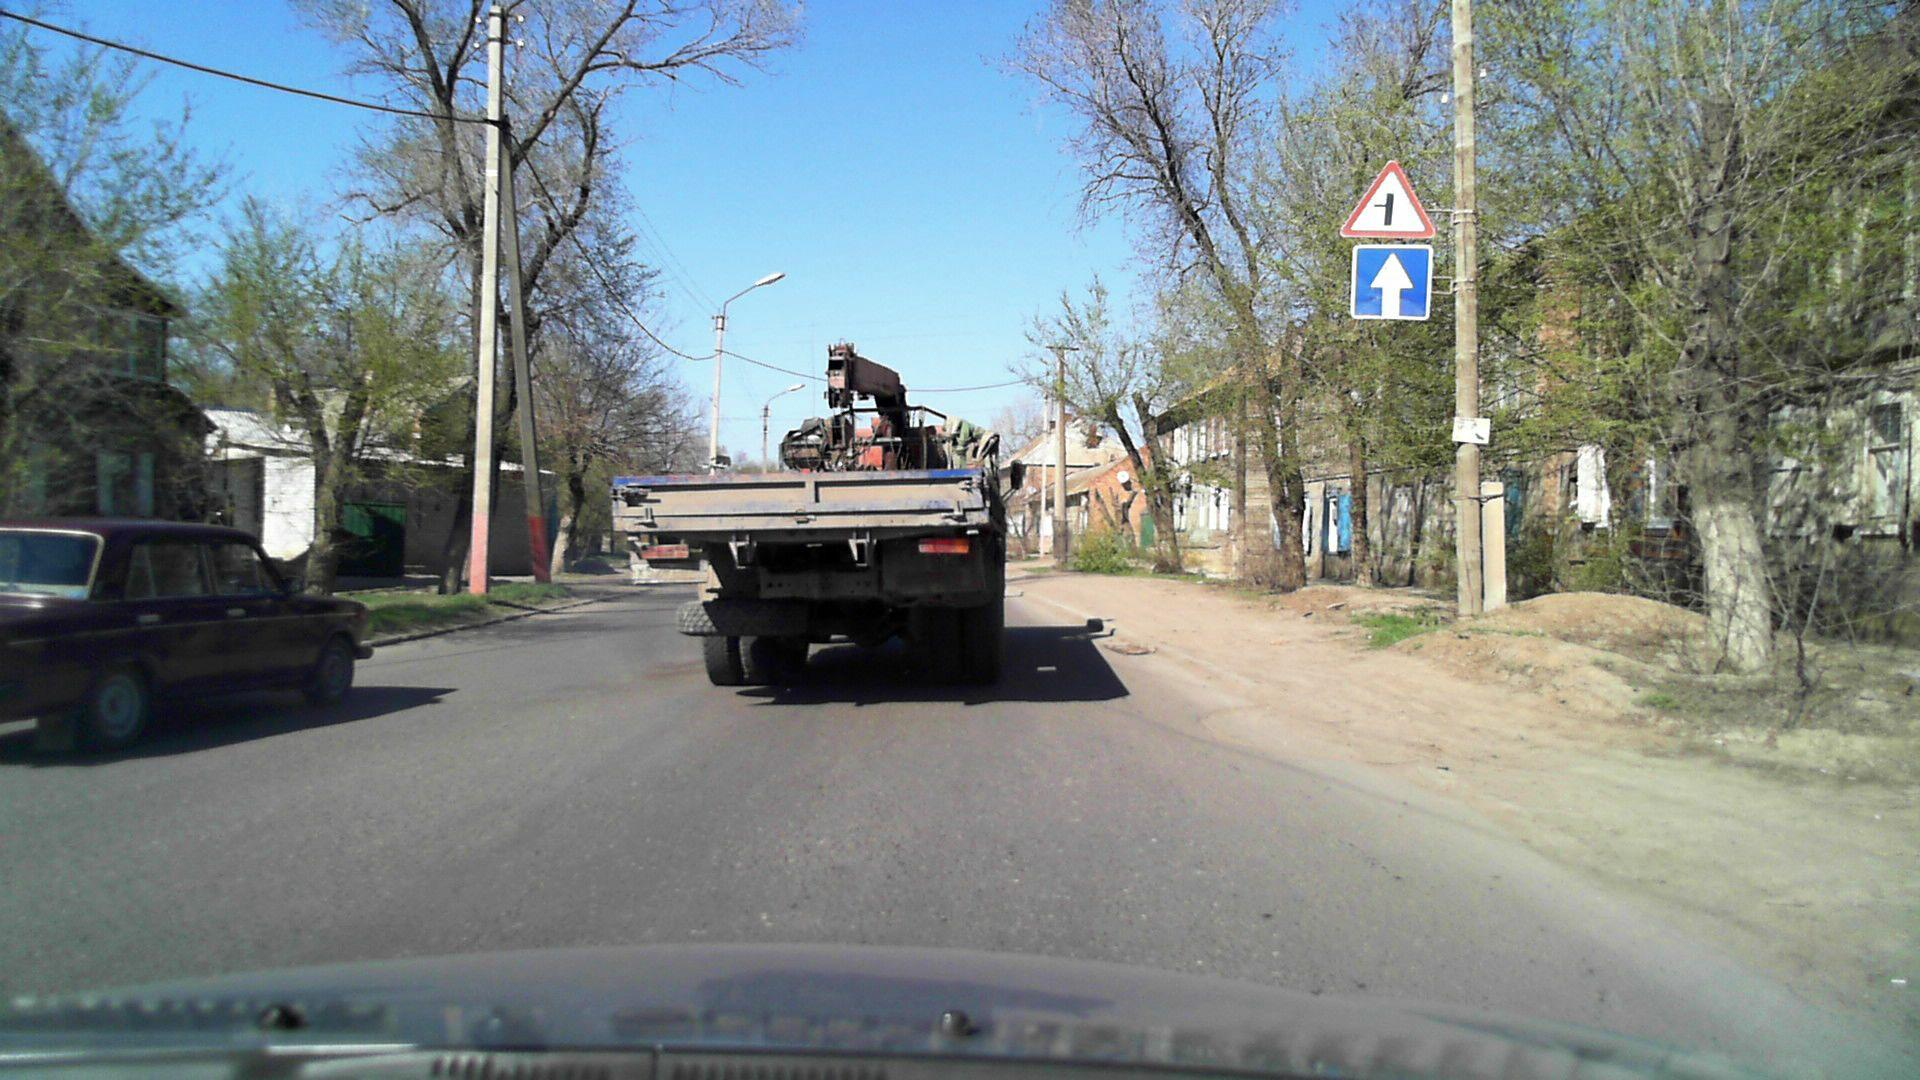2_3_3: (1341, 156, 1437, 243)
5_5: (1349, 245, 1429, 322)
